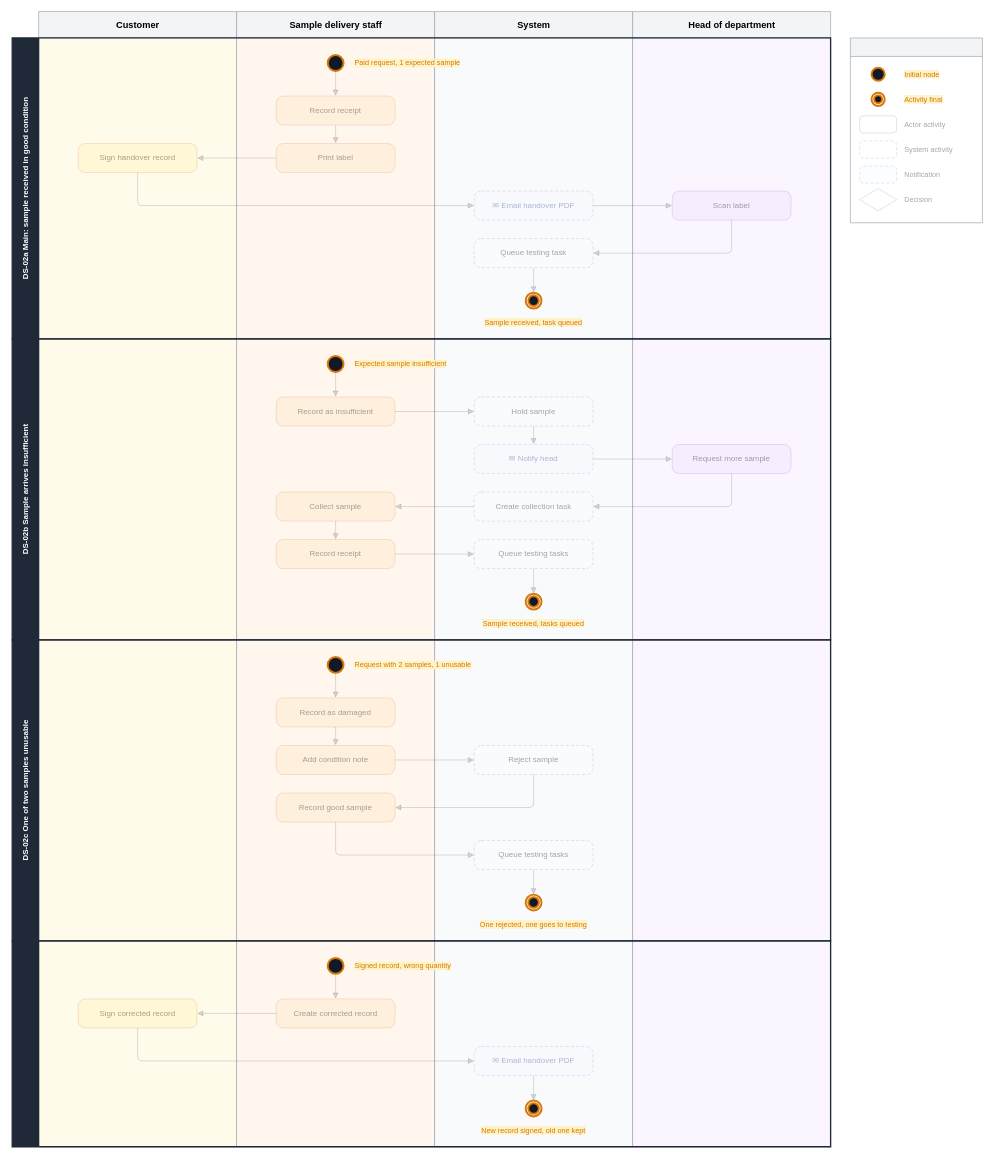
This 994x1159 diagram has some shape labels left out. The box of each missing label's shape, as (x1, y1, x2, y2) in pixels:
DS-02d Handover record has wrong quantity: (11, 940, 831, 1147)
Legend: (850, 37, 982, 223)
